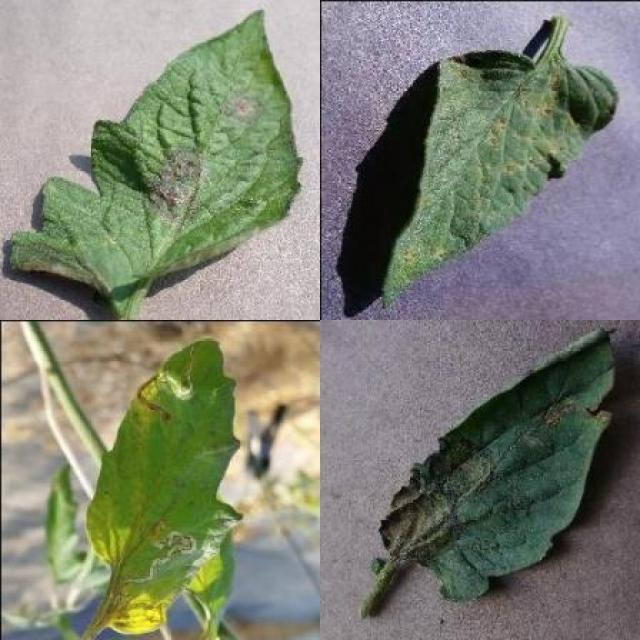Late Blight: (10, 7, 304, 300), (382, 326, 618, 604)
Leaf Miner: (79, 336, 244, 638)
Septoria: (380, 50, 619, 310)
